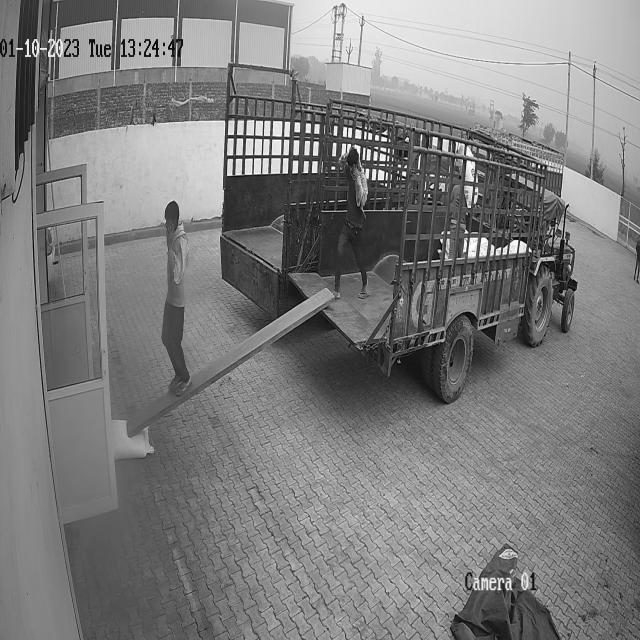sack: (112, 419, 154, 460)
